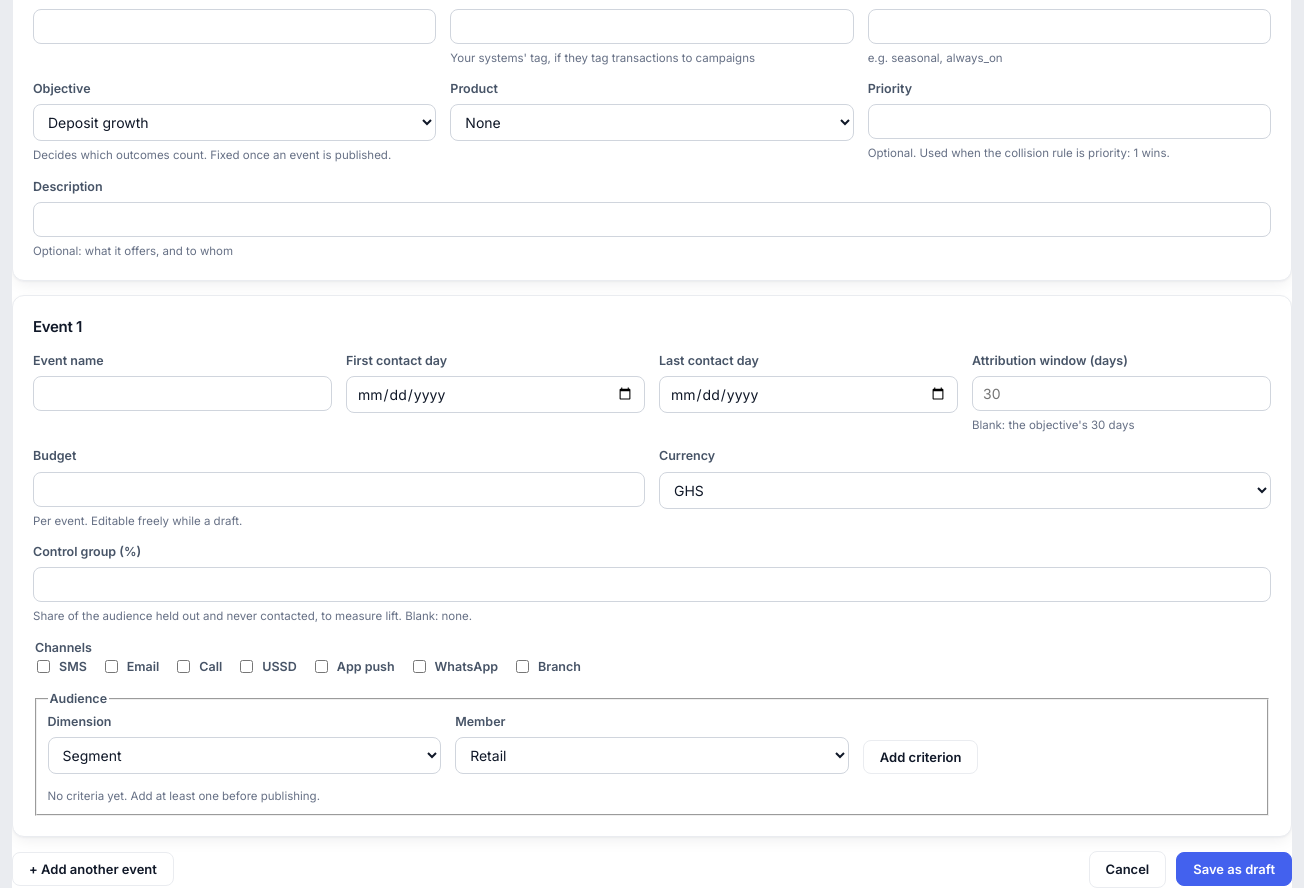
it: campaign builder › shows what needs fixing instead of saving
(page scrolled)
Click the button "Save as draft": (1234, 869) x1=1176 y1=852 x2=1292 y2=886
(page scrolled)
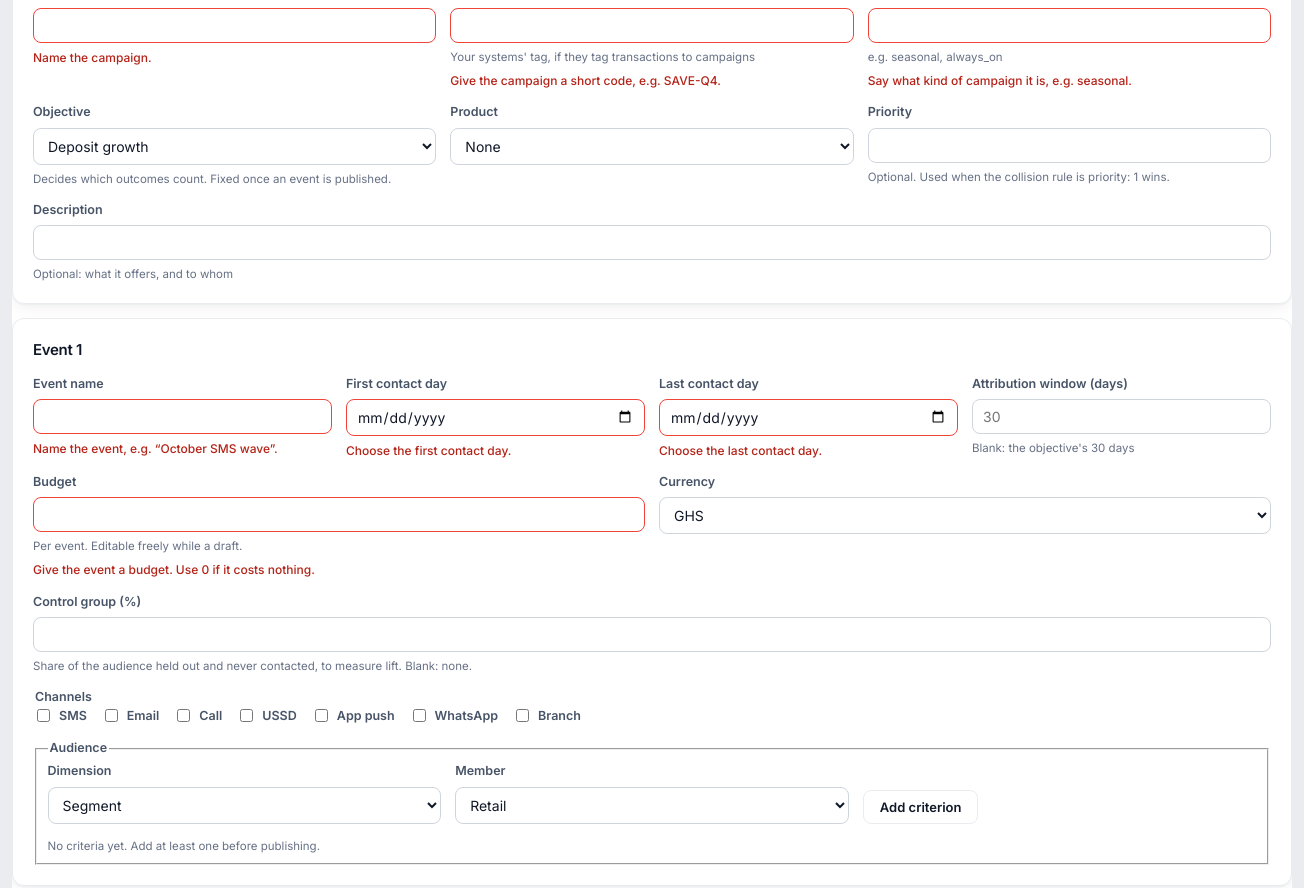
Expected: the text "Name the campaign." is shown, x1=33 y1=50 x2=152 y2=65
Expected: the text "Choose the first contact day." is shown, x1=346 y1=443 x2=511 y2=458
